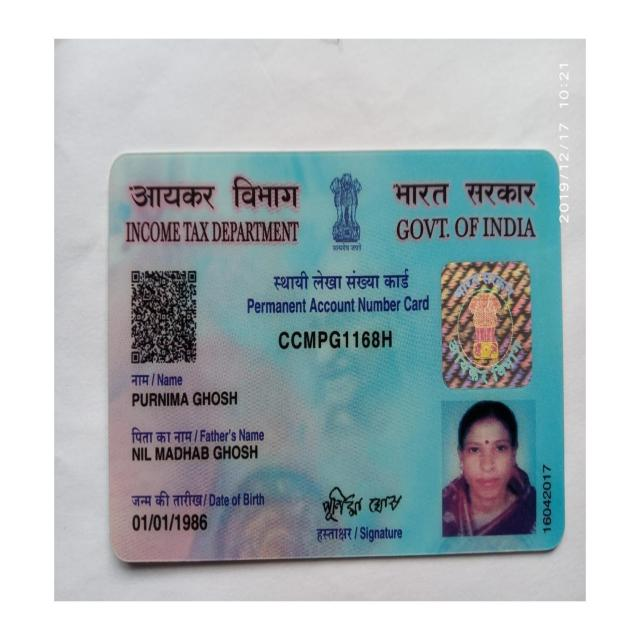pan_card: (107, 160, 561, 551)
